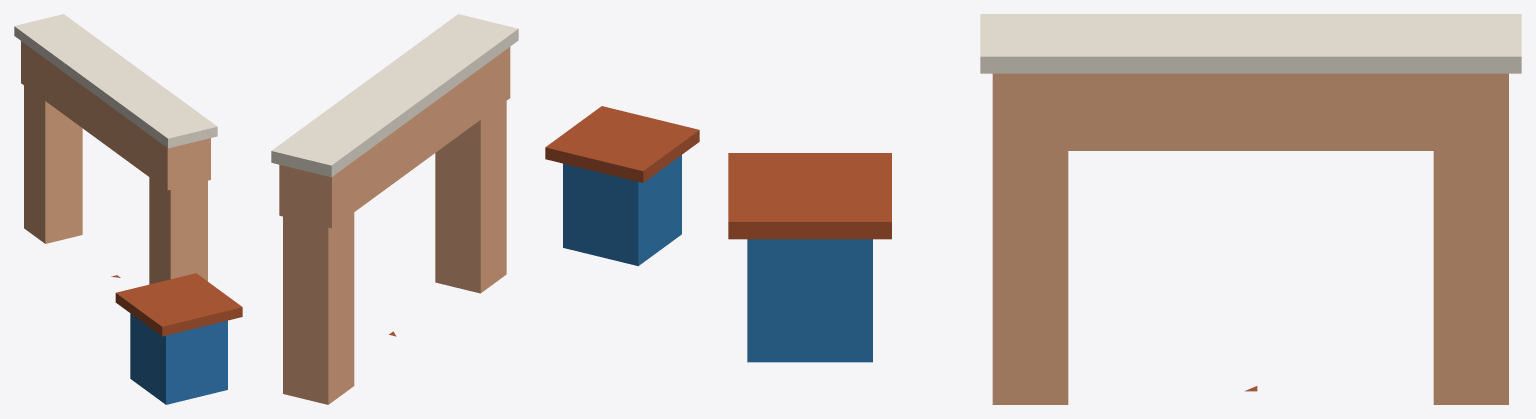
File: paseo_arch.glb
3 views of the same model, side by side, from view 1: azimuth 30°, elevation 25°; view 2: azimuth 150°, elevation 25°; view 3: azimuth 270°, elevation 25° (orthographic). The views are drawn at different scales.
Parts seen in each view (by area): view 1: paseo_arch_lod0; view 2: paseo_arch_lod0; view 3: paseo_arch_lod0.
Boxes of the visible parts, x1,y1,x2,y2 form: paseo_arch_lod0: [14, 14, 242, 404]; paseo_arch_lod0: [271, 14, 699, 404]; paseo_arch_lod0: [728, 14, 1521, 404].
Size of what is drawn, in the model's own units: 4.1 by 6.2 by 12.6.
